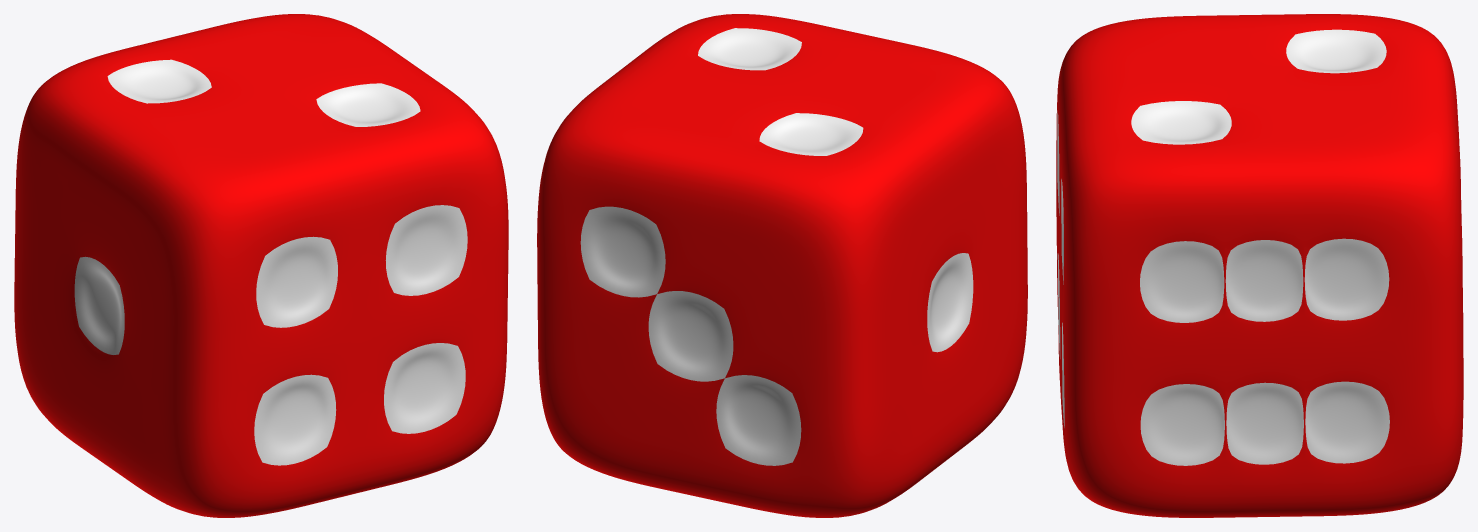
File: dice.glb
The picture shows the model from 3 angles, left to right: view 1: azimuth 30°, elevation 25°; view 2: azimuth 150°, elevation 25°; view 3: azimuth 270°, elevation 25°; orthographic projection. The views are drawn at different scales.
Parts seen in each view (by area): view 1: Cube; view 2: Cube; view 3: Cube.
Part boxes in pixels (<box>): Cube: <box>14,14,508,517</box>; Cube: <box>537,14,1027,517</box>; Cube: <box>1056,14,1463,517</box>.
Bounding box in the file's own units: 2.04 × 2.01 × 2.03.
